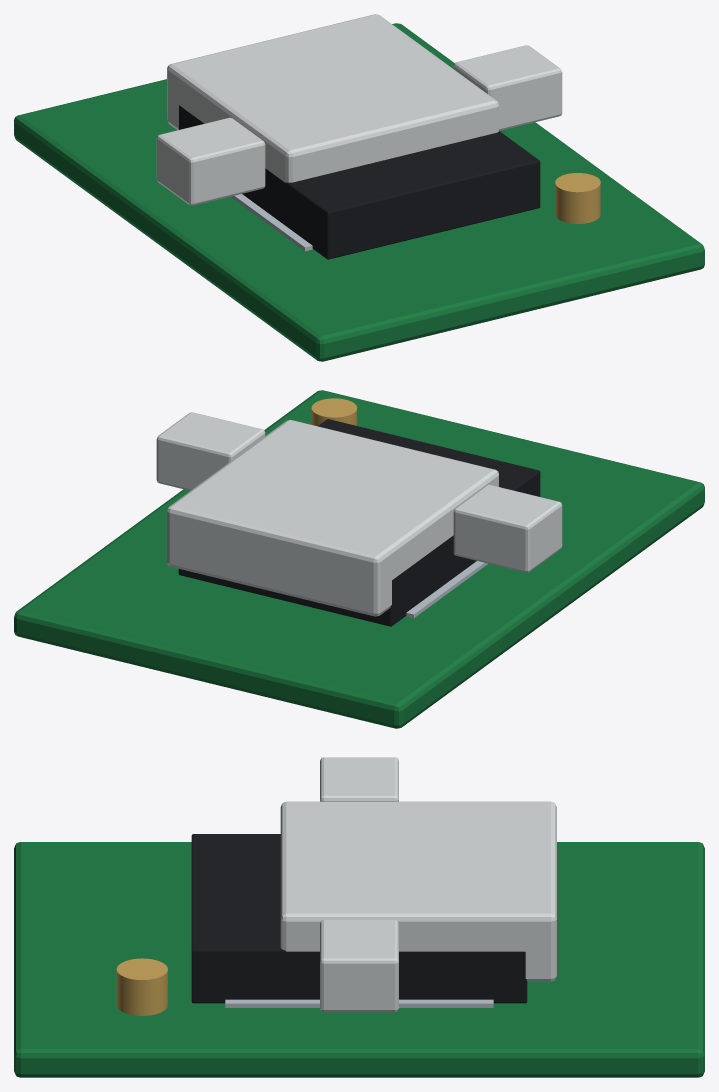
Rendered from gps_adafruit_ultimate.glb.
3 views of the same model, one above another, from view 1: azimuth 30°, elevation 25°; view 2: azimuth 150°, elevation 25°; view 3: azimuth 270°, elevation 25° (orthographic). The views are drawn at different scales.
Visible parts, largest first — view 1: part_gps_adafruit_ultimate__pcb, part_gps_adafruit_ultimate__polymer, part_gps_adafruit_ultimate__black_polymer, part_gps_adafruit_ultimate__brass, part_gps_adafruit_ultimate__steel; view 2: part_gps_adafruit_ultimate__pcb, part_gps_adafruit_ultimate__polymer, part_gps_adafruit_ultimate__black_polymer, part_gps_adafruit_ultimate__brass, part_gps_adafruit_ultimate__steel; view 3: part_gps_adafruit_ultimate__pcb, part_gps_adafruit_ultimate__polymer, part_gps_adafruit_ultimate__black_polymer, part_gps_adafruit_ultimate__brass, part_gps_adafruit_ultimate__steel.
Boxes of the visible parts, x1,y1,x2,y2 form: part_gps_adafruit_ultimate__pcb: (14,23,704,361); part_gps_adafruit_ultimate__polymer: (156,14,562,205); part_gps_adafruit_ultimate__black_polymer: (178,105,540,259); part_gps_adafruit_ultimate__brass: (555,173,600,223); part_gps_adafruit_ultimate__steel: (231,194,312,251); part_gps_adafruit_ultimate__pcb: (14,390,704,728); part_gps_adafruit_ultimate__polymer: (156,412,562,616); part_gps_adafruit_ultimate__black_polymer: (178,419,540,626); part_gps_adafruit_ultimate__brass: (311,398,357,426); part_gps_adafruit_ultimate__steel: (406,561,487,618); part_gps_adafruit_ultimate__pcb: (14,842,704,1077); part_gps_adafruit_ultimate__polymer: (280,757,556,1012); part_gps_adafruit_ultimate__black_polymer: (191,834,527,1003); part_gps_adafruit_ultimate__brass: (116,958,167,1015); part_gps_adafruit_ultimate__steel: (225,999,493,1007).
Bounding box in the file's own units: 0.0255 × 0.0065 × 0.035.
